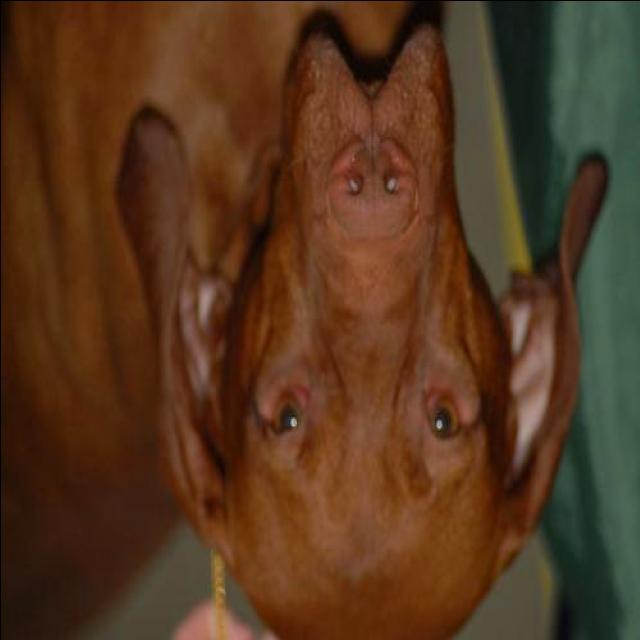vizsla: (2, 2, 612, 640)
